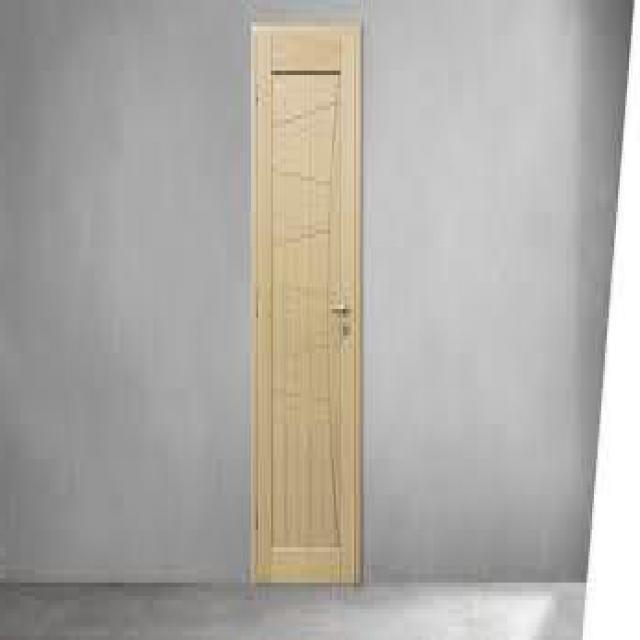door: (249, 22, 361, 585)
